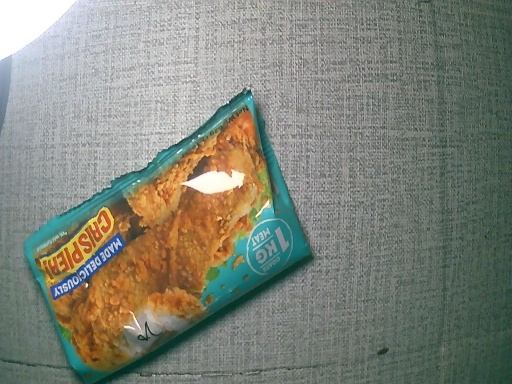plastic: (26, 92, 310, 378)
